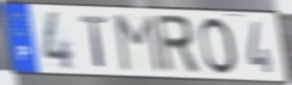4: (41, 10, 78, 72), (247, 20, 274, 75)
M: (114, 13, 165, 74)
O: (198, 16, 240, 76)
R: (153, 13, 202, 76)
T: (78, 15, 110, 70)
